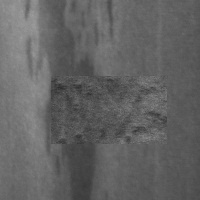inclusion: (22, 1, 100, 198), (102, 1, 118, 48)
rolled-in_scale: (51, 76, 167, 144)
